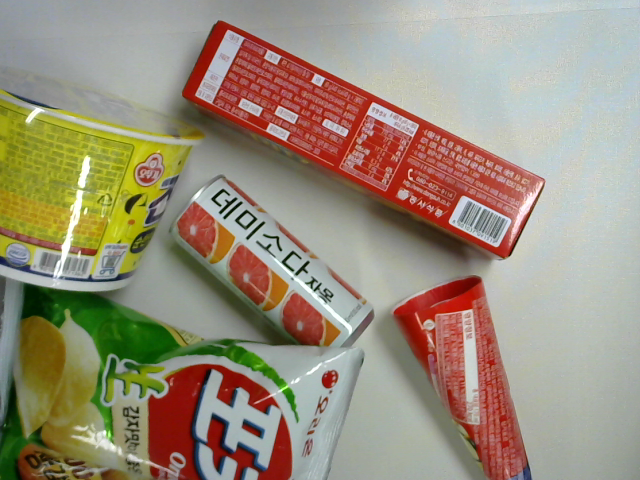Demisoda_Grapefruit_Can_250ml: (167, 175, 375, 366)
Jinlamyeon_Mild_Taste_Large_Cup: (1, 54, 206, 301)
Pocachip_Onion: (1, 266, 374, 478)
Ritz_Cracker: (179, 15, 553, 261)
World_Cone_Banila: (391, 268, 541, 480)
